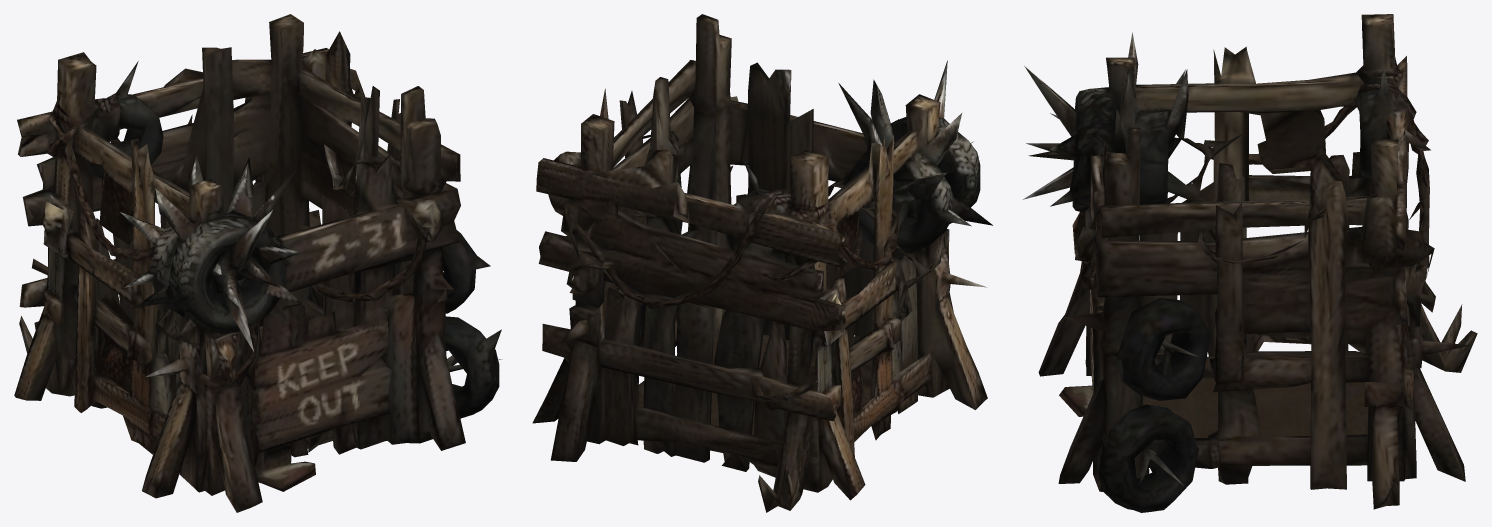
Rendered from madera.glb.
The picture shows the model from 3 angles, left to right: view 1: azimuth 30°, elevation 25°; view 2: azimuth 150°, elevation 25°; view 3: azimuth 270°, elevation 25°; orthographic projection. The views are drawn at different scales.
Parts seen in each view (by area): view 1: tripo_node_0345cf66-60e2-4de9-a691-0fc3a7a3c668; view 2: tripo_node_0345cf66-60e2-4de9-a691-0fc3a7a3c668; view 3: tripo_node_0345cf66-60e2-4de9-a691-0fc3a7a3c668.
Boxes of the visible parts, left/top/right/bottom form: tripo_node_0345cf66-60e2-4de9-a691-0fc3a7a3c668: left=14, top=14, right=502, bottom=512; tripo_node_0345cf66-60e2-4de9-a691-0fc3a7a3c668: left=532, top=14, right=992, bottom=512; tripo_node_0345cf66-60e2-4de9-a691-0fc3a7a3c668: left=1023, top=14, right=1477, bottom=512.
Size of the model in its own units: 1 by 0.8549 by 0.9891.
1 material, 1 textured.
